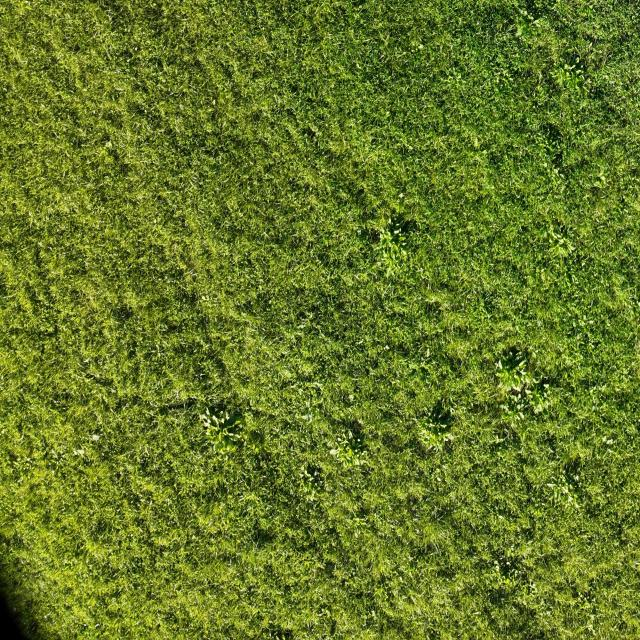rumex: (186, 472, 269, 577), (562, 4, 640, 85), (382, 15, 442, 93), (120, 463, 177, 537), (78, 3, 128, 66), (502, 562, 550, 623), (436, 58, 476, 110), (569, 584, 606, 631), (196, 284, 234, 329), (543, 472, 582, 515), (586, 377, 615, 428), (509, 6, 541, 46), (171, 3, 203, 41), (546, 222, 575, 258), (343, 500, 370, 535), (300, 462, 324, 495), (526, 383, 547, 413), (497, 371, 524, 393), (422, 411, 451, 431), (158, 315, 184, 336), (315, 606, 333, 632), (77, 432, 102, 449), (399, 217, 419, 238), (48, 447, 67, 469), (348, 185, 367, 207), (495, 68, 514, 89), (72, 442, 92, 458), (22, 437, 36, 459), (242, 412, 256, 433), (300, 126, 318, 141), (488, 435, 508, 448), (172, 386, 186, 404), (257, 27, 269, 48), (274, 627, 292, 640), (303, 465, 318, 480), (213, 437, 227, 453), (280, 367, 294, 382), (228, 418, 244, 431), (99, 148, 111, 164), (500, 574, 513, 588), (218, 411, 230, 426), (525, 347, 537, 362), (386, 253, 396, 270), (138, 446, 150, 460), (536, 92, 548, 106), (514, 357, 526, 371), (205, 427, 218, 439), (596, 170, 607, 184), (226, 432, 240, 443), (635, 327, 640, 356), (311, 381, 323, 393), (550, 230, 562, 242), (198, 413, 210, 425), (518, 368, 528, 382), (298, 314, 312, 324), (563, 63, 575, 74), (301, 411, 313, 422), (298, 320, 310, 331), (289, 83, 300, 95), (588, 33, 599, 45), (552, 485, 561, 499), (208, 401, 226, 408), (378, 230, 388, 242), (420, 270, 430, 282), (385, 267, 393, 281), (569, 272, 577, 286), (515, 27, 524, 39), (189, 180, 198, 192), (526, 12, 536, 22), (354, 457, 364, 467), (552, 167, 561, 178), (328, 448, 339, 457), (516, 400, 524, 412), (545, 482, 557, 490), (106, 10, 114, 22), (472, 138, 481, 148), (519, 7, 528, 17), (51, 130, 60, 140), (28, 211, 34, 225), (575, 67, 584, 76), (410, 44, 418, 54), (584, 78, 592, 88), (104, 140, 112, 150), (217, 432, 225, 442), (347, 447, 354, 458), (405, 143, 413, 152), (497, 513, 506, 521), (156, 194, 164, 203), (208, 518, 215, 528), (351, 439, 358, 449), (93, 29, 100, 39), (425, 348, 431, 359), (61, 168, 67, 179), (417, 43, 425, 51), (384, 110, 392, 118), (83, 356, 91, 364), (262, 231, 270, 239), (542, 382, 550, 390), (600, 383, 607, 392), (348, 393, 355, 402), (347, 212, 354, 221), (156, 345, 162, 355), (356, 61, 362, 71), (496, 360, 502, 370), (348, 430, 354, 440), (201, 294, 208, 302), (366, 368, 373, 376), (558, 172, 565, 180), (190, 270, 197, 278), (154, 216, 160, 225), (494, 560, 500, 569), (537, 319, 543, 328), (308, 619, 313, 629), (394, 228, 401, 235), (508, 544, 514, 552), (398, 192, 406, 198), (436, 475, 442, 483), (50, 463, 56, 471), (574, 56, 580, 64), (508, 351, 514, 359), (384, 344, 390, 351), (198, 208, 205, 214), (505, 560, 511, 567), (94, 622, 100, 629), (574, 473, 579, 481), (582, 314, 587, 322), (169, 90, 175, 96), (388, 218, 392, 225), (21, 557, 25, 564), (0, 376, 4, 382), (638, 301, 640, 311)
